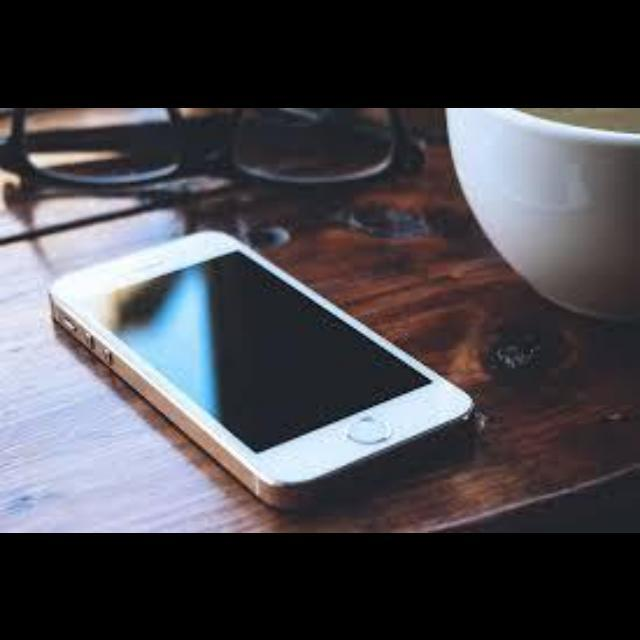Phone: (51, 226, 476, 509)
